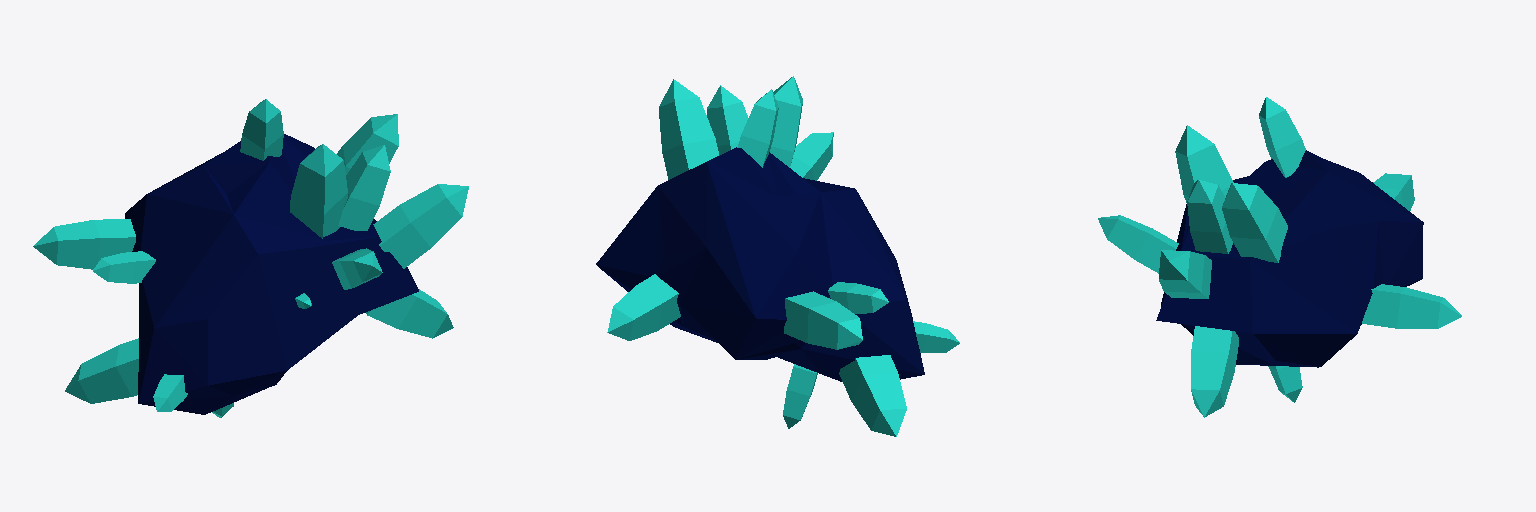
File: Metal6.obj
3 views of the same model, side by side, from view 1: azimuth 30°, elevation 25°; view 2: azimuth 150°, elevation 25°; view 3: azimuth 270°, elevation 25° (orthographic).
Visible parts, largest first — view 1: Icosphere.011_Icosphere.013, Cube.001_Cube.002; view 2: Icosphere.011_Icosphere.013, Cube.001_Cube.002; view 3: Icosphere.011_Icosphere.013, Cube.001_Cube.002.
Boxes of the visible parts, x1,y1,x2,y2 form: Icosphere.011_Icosphere.013: [125, 134, 418, 414]; Cube.001_Cube.002: [33, 99, 468, 417]; Icosphere.011_Icosphere.013: [596, 147, 924, 381]; Cube.001_Cube.002: [607, 76, 959, 436]; Icosphere.011_Icosphere.013: [1156, 150, 1423, 367]; Cube.001_Cube.002: [1098, 97, 1461, 417].
Size of the model in its own units: 1.51 by 1.45 by 1.49.